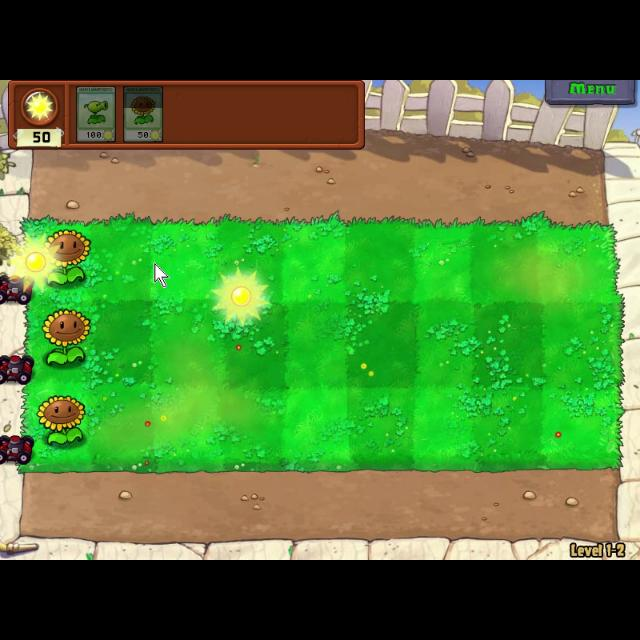Garden: (12, 212, 628, 478)
Menu Button: (545, 80, 637, 108)
Mower: (0, 268, 34, 306), (1, 352, 36, 386), (0, 433, 32, 465)
Peashooter: (76, 84, 116, 144)
Seed Panel: (4, 80, 366, 154)
Sun: (211, 269, 275, 325), (12, 234, 60, 290)
Sunflower: (122, 83, 164, 143)
Sunflower Seed: (38, 304, 96, 370), (40, 222, 92, 288), (34, 391, 88, 449)
